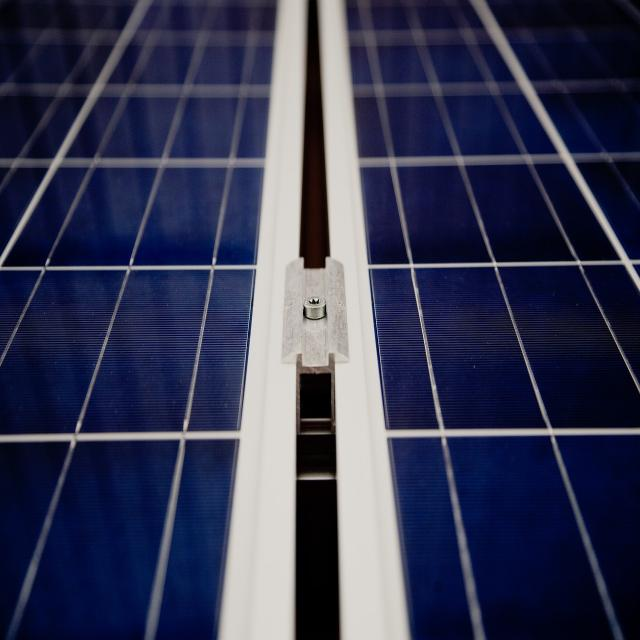clean-solar-panel: (346, 1, 640, 638), (0, 2, 275, 638)
